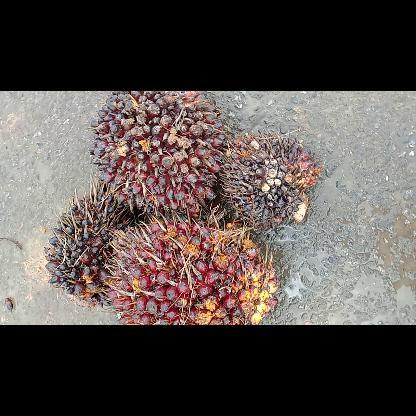Kurang masak: (90, 90, 224, 214)
TBS abnormal: (45, 187, 137, 307), (219, 133, 317, 225)
TBS masak: (112, 220, 278, 324)
